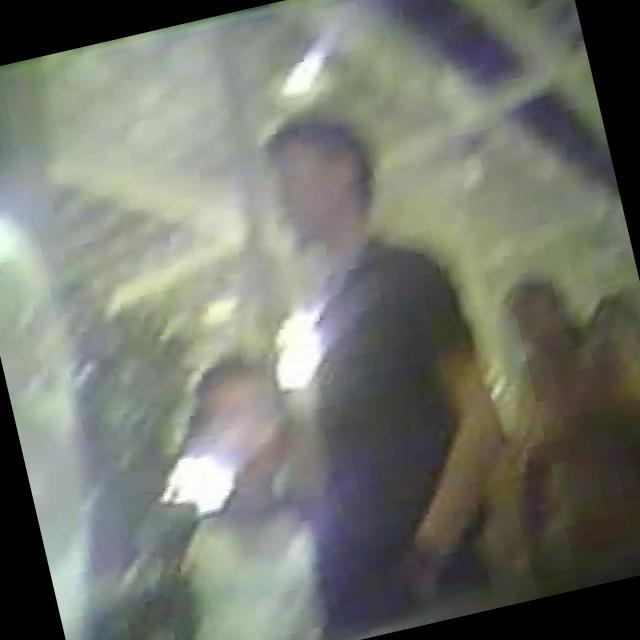person: (247, 91, 538, 638), (0, 112, 137, 640), (135, 350, 348, 640), (493, 290, 640, 587)
